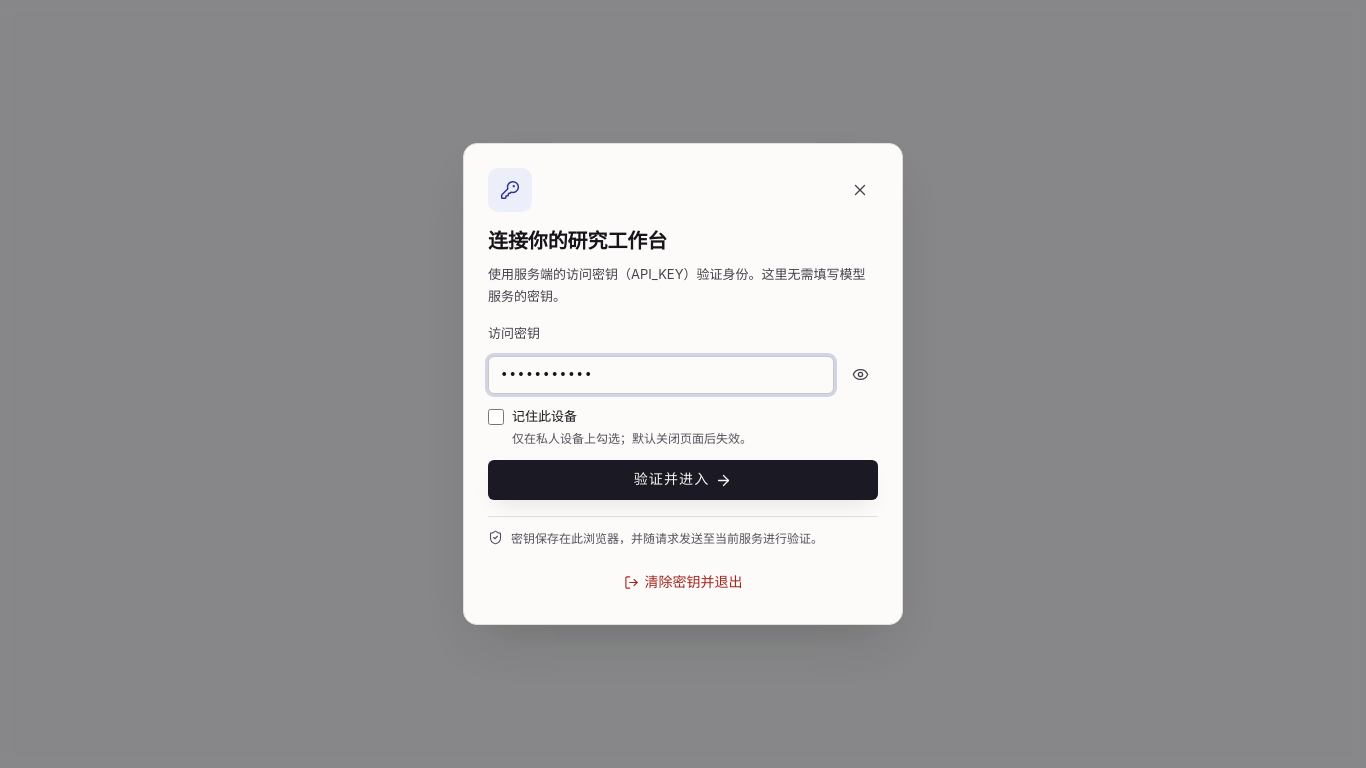
Test case: LoginGate › does not replace a working credential when verification fails
Type "wrong-key" into the password field labelled "访问密钥" at (661, 375), box [488,356,834,394]
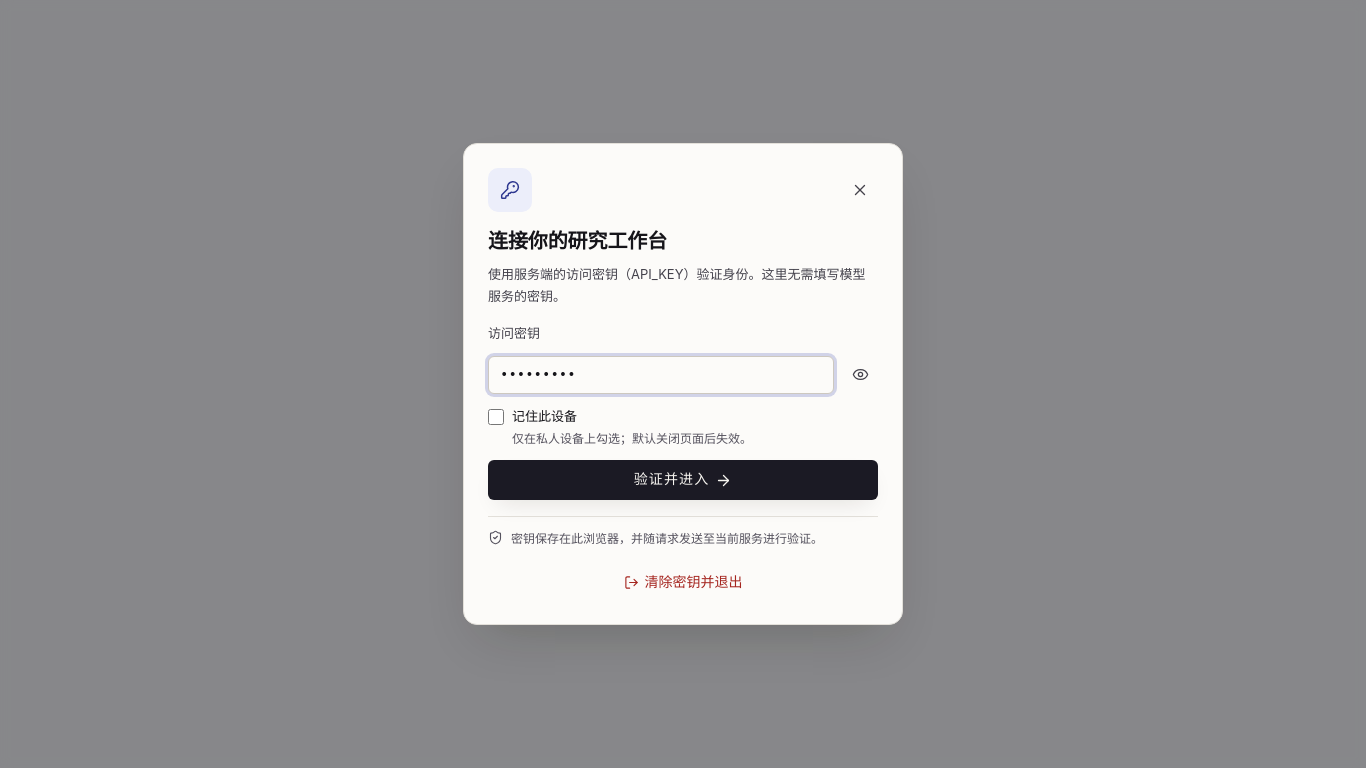
Click the button "验证并进入" at (683, 480), box [488,460,878,500]
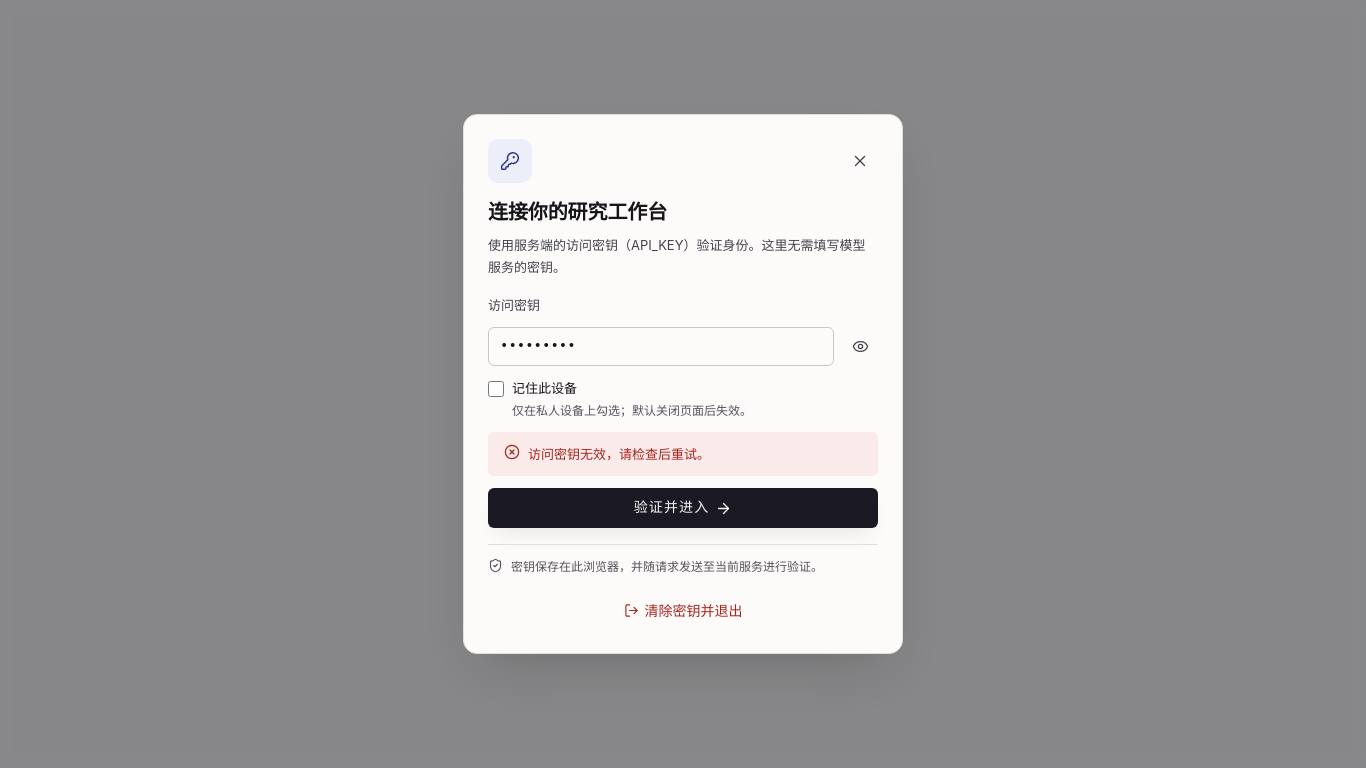
Check: the message shows "访问密钥无效", box [528,446,710,462]
